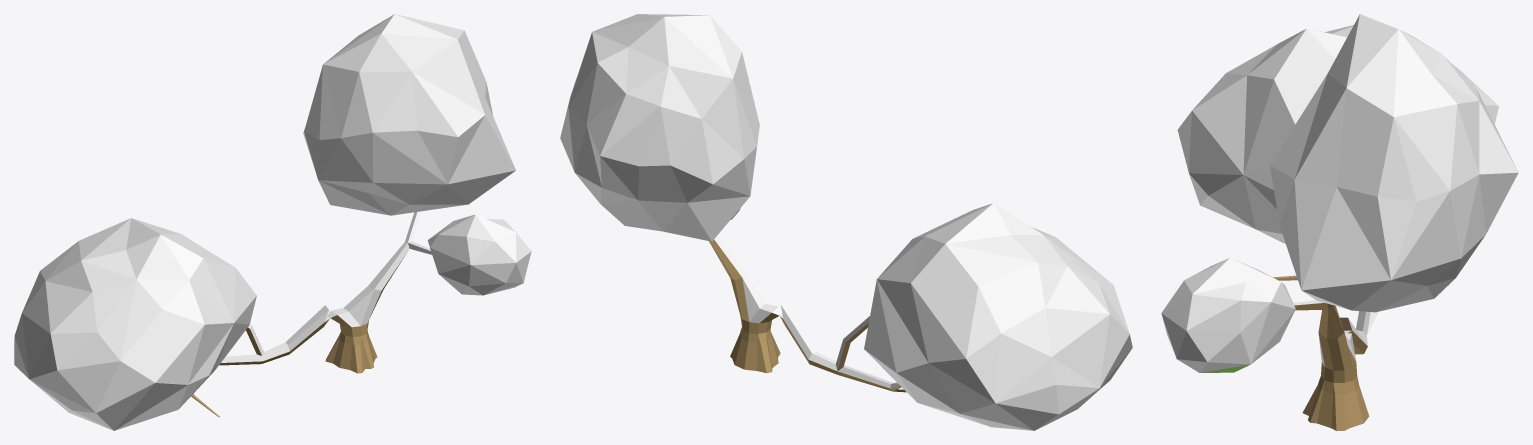
File: Oak_Tree_crk_l_Snow_02_LOD.fbx
3 views of the same model, side by side, from view 1: azimuth 30°, elevation 25°; view 2: azimuth 150°, elevation 25°; view 3: azimuth 270°, elevation 25° (orthographic). The views are drawn at different scales.
Visible parts, largest first — view 1: Oak_Tree_crk_l_Snow_02_LOD0; view 2: Oak_Tree_crk_l_Snow_02_LOD0; view 3: Oak_Tree_crk_l_Snow_02_LOD0.
Part boxes in pixels (box(x1,y1,x2,y2)): Oak_Tree_crk_l_Snow_02_LOD0: box(14, 14, 531, 430); Oak_Tree_crk_l_Snow_02_LOD0: box(560, 14, 1132, 430); Oak_Tree_crk_l_Snow_02_LOD0: box(1161, 14, 1518, 430).
Size of what is drawn, in the model's own units: 1714 by 1078 by 815.
